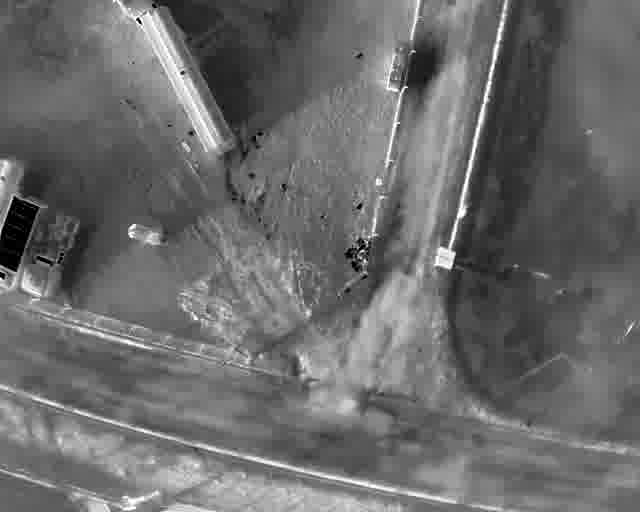truck: (114, 0, 236, 161), (20, 210, 80, 296), (0, 194, 49, 292)
